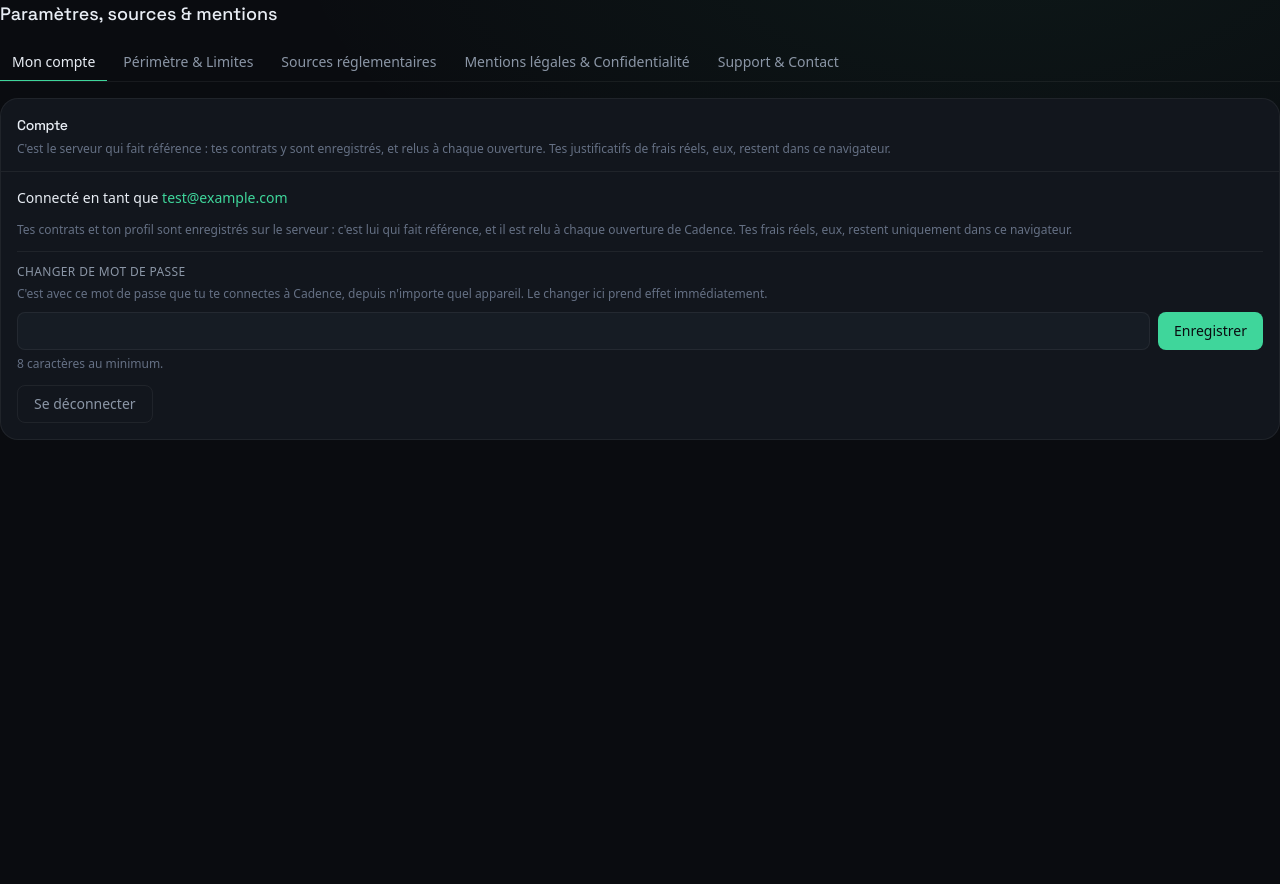
Test: ParametresSourcesEtMentions — les cinq sous-sections › bascule vers « Mentions légales & Confidentialité » et réutilise le texte unique
This screenshot has width=1280, height=884.
Click the button "Mentions légales & Confidentialité". click: (577, 63)
box: [452, 44, 702, 82]
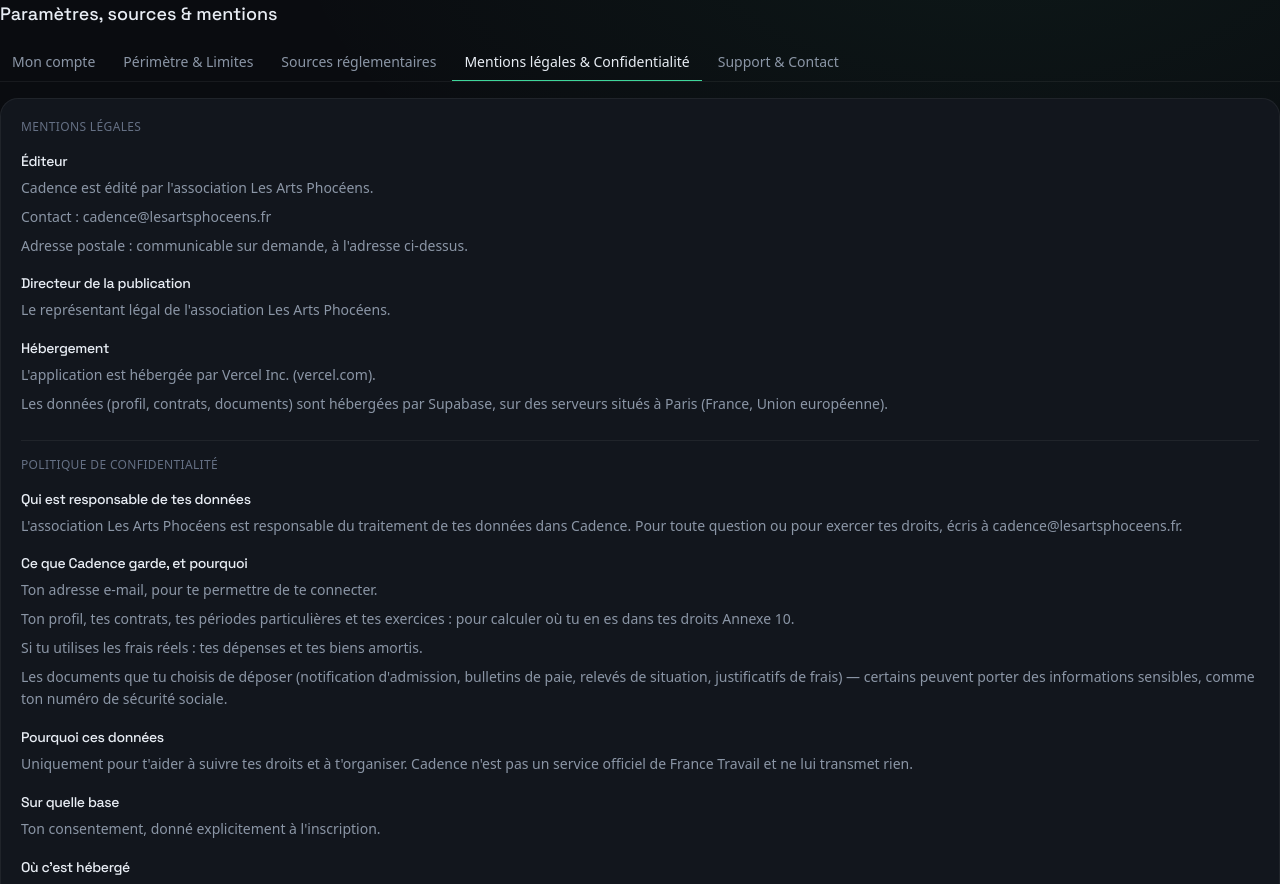
expect the text "Politique de confidentialité" is shown: met, box [21, 456, 218, 472]
